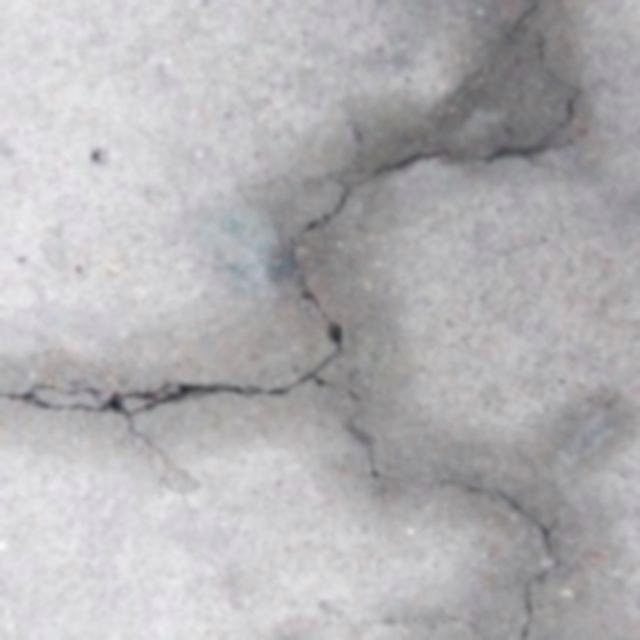SurfaceCrack: (0, 326, 584, 616), (272, 0, 614, 346)
